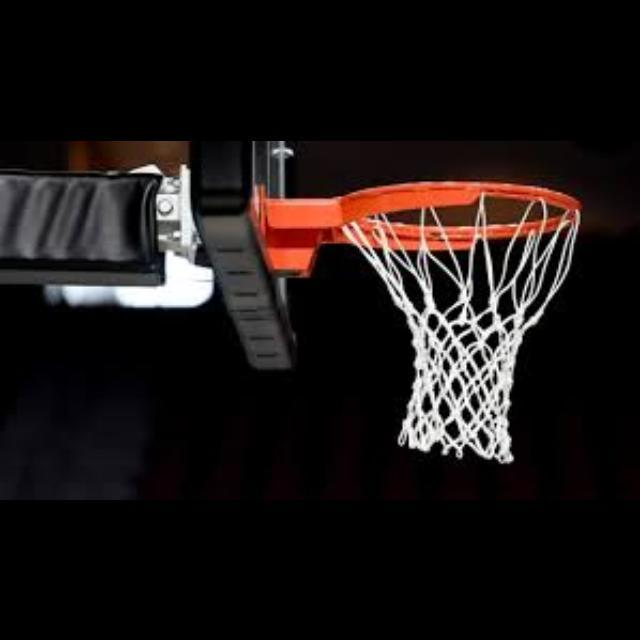rim: (344, 179, 582, 455)
